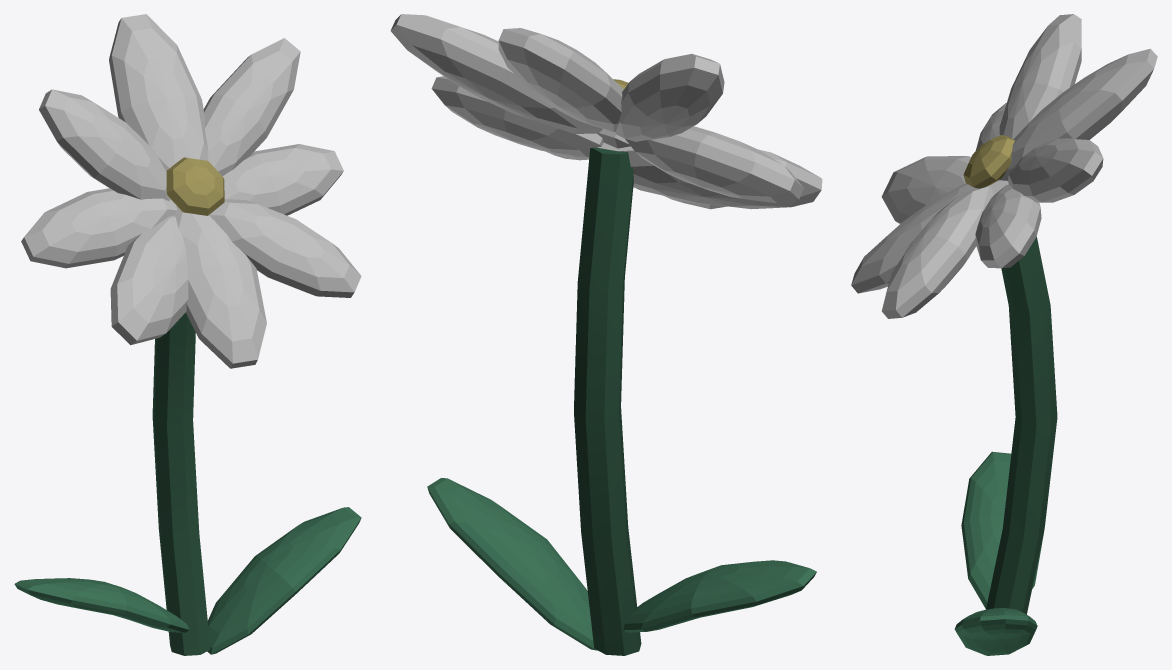
Rendered from flower003.fbx.
3 renders of one model, left to right at view 1: azimuth 30°, elevation 25°; view 2: azimuth 150°, elevation 25°; view 3: azimuth 270°, elevation 25°, orthographic. The views are drawn at different scales.
Visible parts, largest first — view 1: flower003; view 2: flower003; view 3: flower003.
Boxes of the visible parts, x1,y1,x2,y2 form: flower003: (14,14,361,655); flower003: (390,14,822,655); flower003: (851,14,1157,655).
Bounding box in the file's own units: 2.89 × 2.26 × 4.86.
